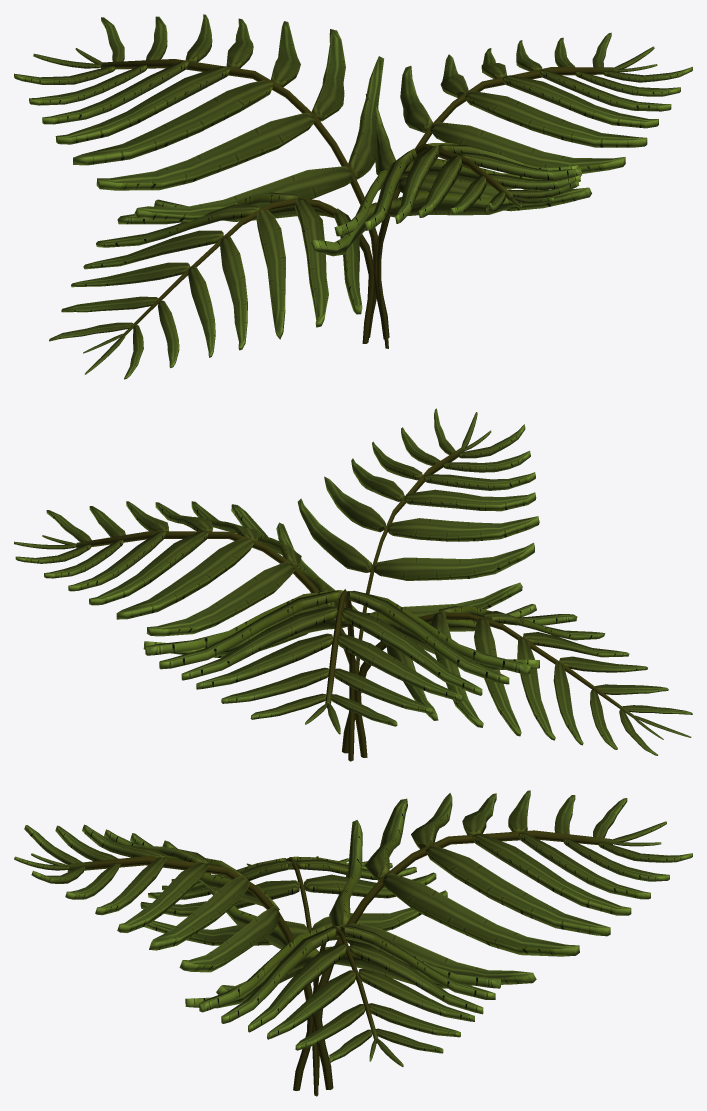
File: FernPlant.FBX
The picture shows the model from 3 angles, top to bottom: view 1: azimuth 30°, elevation 25°; view 2: azimuth 150°, elevation 25°; view 3: azimuth 270°, elevation 25°; orthographic projection. The views are drawn at different scales.
Visible parts, largest first — view 1: Fern_Low; view 2: Fern_Low; view 3: Fern_Low.
Boxes of the visible parts, x1,y1,x2,y2 form: Fern_Low: (14,14,692,379); Fern_Low: (14,408,692,761); Fern_Low: (14,790,692,1096).
Size of the model in its own units: 138 by 128 by 51.96.
